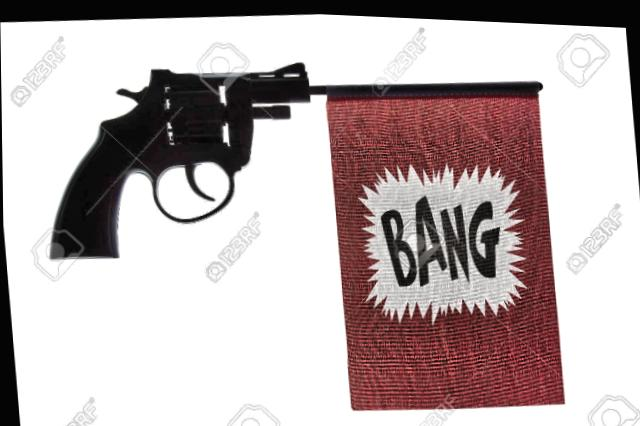pistol: (31, 47, 324, 270)
